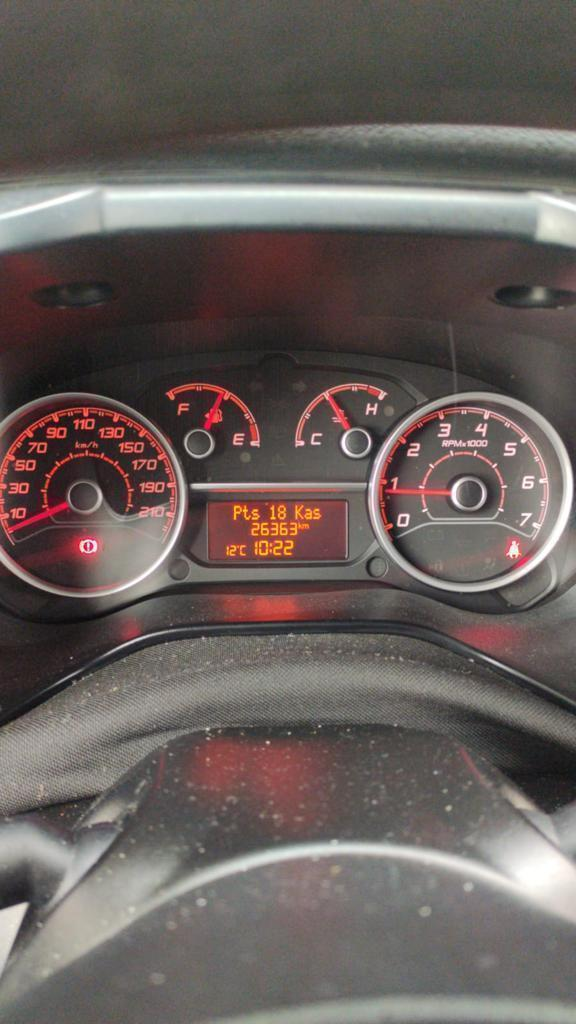0: (258, 539, 268, 556)
1: (269, 503, 276, 520), (253, 539, 258, 556), (226, 545, 229, 556)
2: (283, 538, 294, 555), (273, 539, 282, 556), (251, 522, 260, 536), (229, 544, 236, 556)
3: (270, 522, 278, 536), (289, 521, 297, 535)
6: (260, 521, 269, 536), (279, 521, 287, 535)
8: (276, 503, 286, 520)
X: (293, 503, 304, 519), (233, 504, 242, 520), (250, 507, 260, 520), (242, 504, 250, 520), (312, 506, 321, 519), (239, 543, 247, 556), (304, 508, 312, 520), (302, 522, 310, 529), (297, 521, 302, 529), (269, 541, 272, 554)
odometer: (204, 497, 350, 563)
